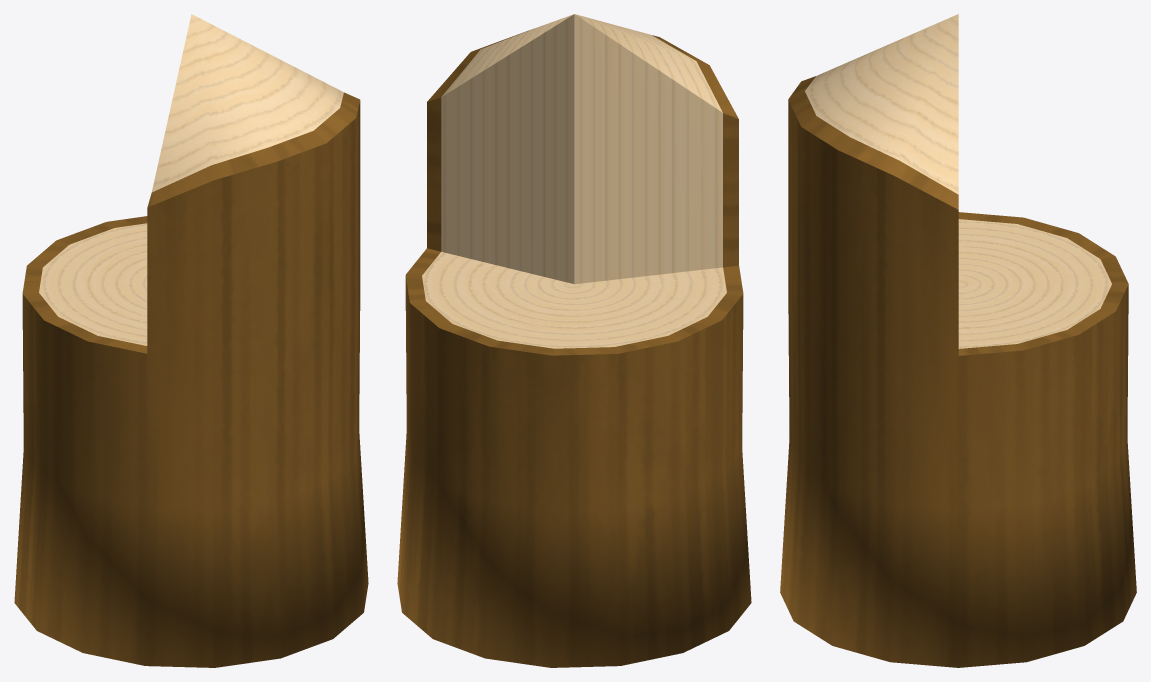
The model's file is bot_tree1.fbx.
3 renders of one model, left to right at view 1: azimuth 30°, elevation 25°; view 2: azimuth 150°, elevation 25°; view 3: azimuth 270°, elevation 25°, orthographic.
Parts seen in each view (by area): view 1: tree_1; view 2: tree_1; view 3: tree_1.
Boxes of the visible parts, box(x1,y1,x2,y2) form: tree_1: box(14, 14, 368, 667); tree_1: box(397, 14, 751, 667); tree_1: box(780, 14, 1136, 667).
Bounding box in the file's own units: 838 × 1500 × 838.
